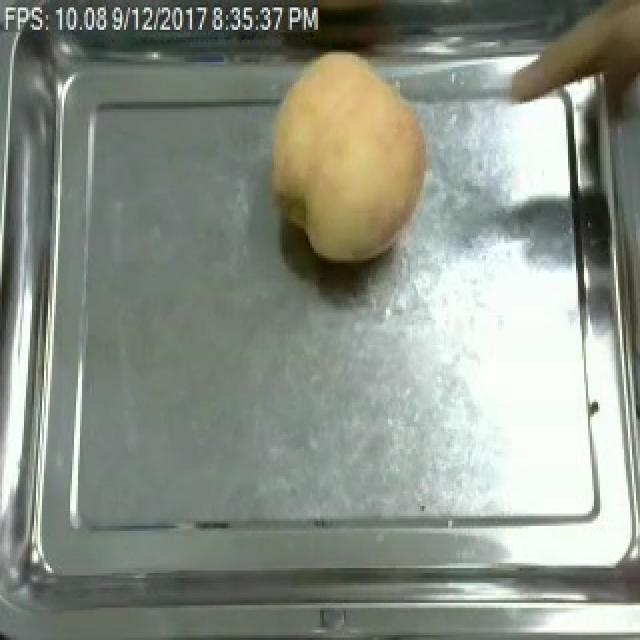Fruit: (260, 45, 440, 273)
